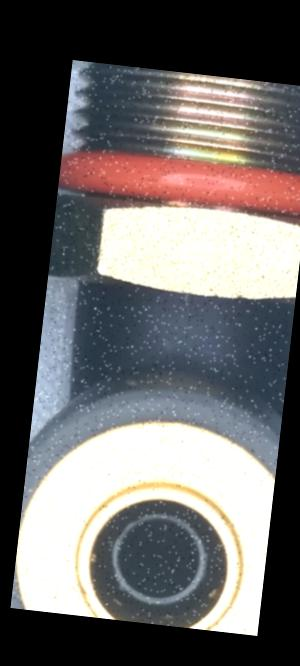joint line: (177, 292, 195, 372)
